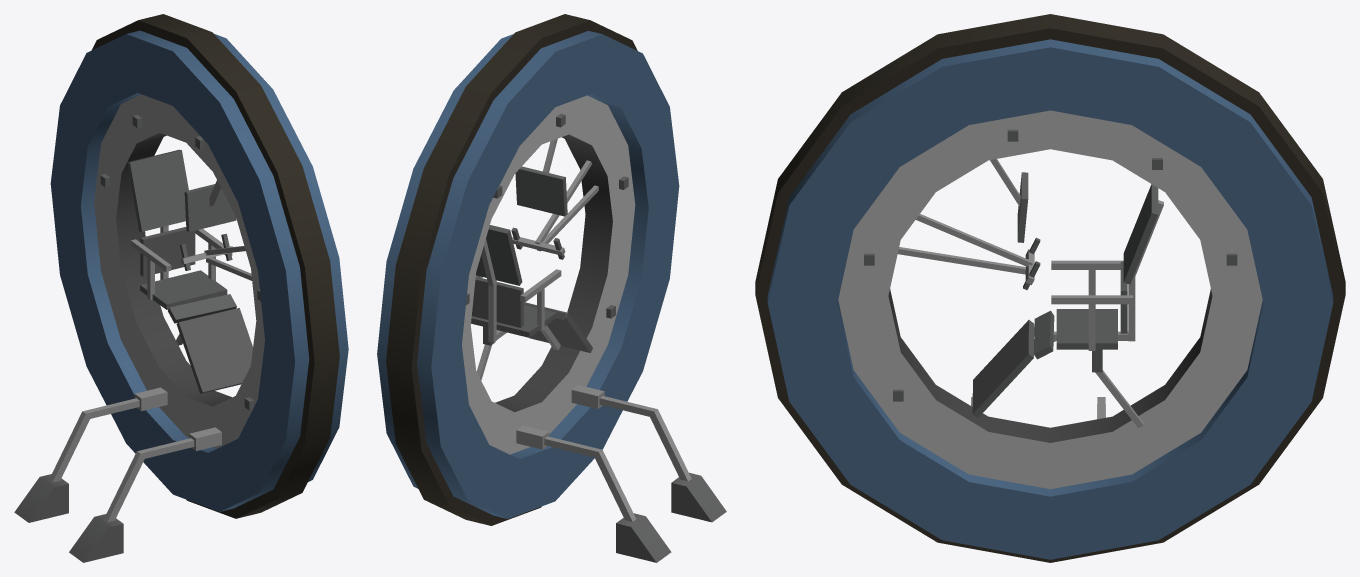
Rendered from Bike.fbx.
The picture shows the model from 3 angles, left to right: view 1: azimuth 30°, elevation 25°; view 2: azimuth 150°, elevation 25°; view 3: azimuth 270°, elevation 25°; orthographic projection. The views are drawn at different scales.
Visible parts, largest first — view 1: PM3D_Circle3D1; view 2: PM3D_Circle3D1; view 3: PM3D_Circle3D1.
Boxes of the visible parts, x1,y1,x2,y2 form: PM3D_Circle3D1: [14, 14, 348, 562]; PM3D_Circle3D1: [377, 14, 726, 562]; PM3D_Circle3D1: [755, 14, 1345, 562].
Size of the model in its own units: 123 by 286 by 286.
